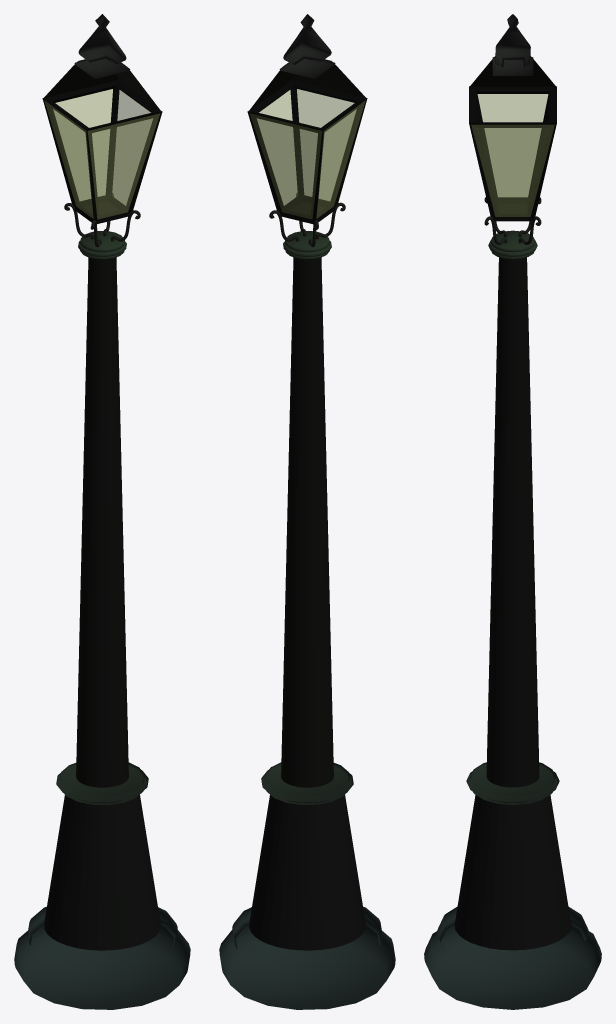
Rendered from CandeeiroRua.obj.
3 renders of one model, left to right at view 1: azimuth 30°, elevation 25°; view 2: azimuth 150°, elevation 25°; view 3: azimuth 270°, elevation 25°, orthographic.
Visible parts, largest first — view 1: CandeeiroRua; view 2: CandeeiroRua; view 3: CandeeiroRua.
Boxes of the visible parts, bbox=[...] form: CandeeiroRua: bbox=[14, 14, 190, 1009]; CandeeiroRua: bbox=[219, 14, 395, 1009]; CandeeiroRua: bbox=[424, 14, 601, 1009].
Size of the model in its own units: 1.23 by 7.34 by 1.23.
